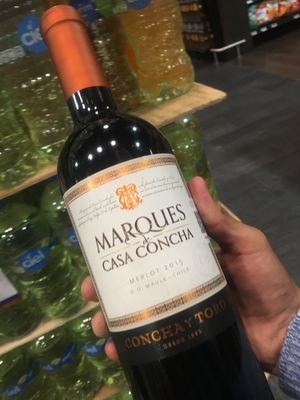marques de casa concha merlot: (27, 10, 273, 397)
